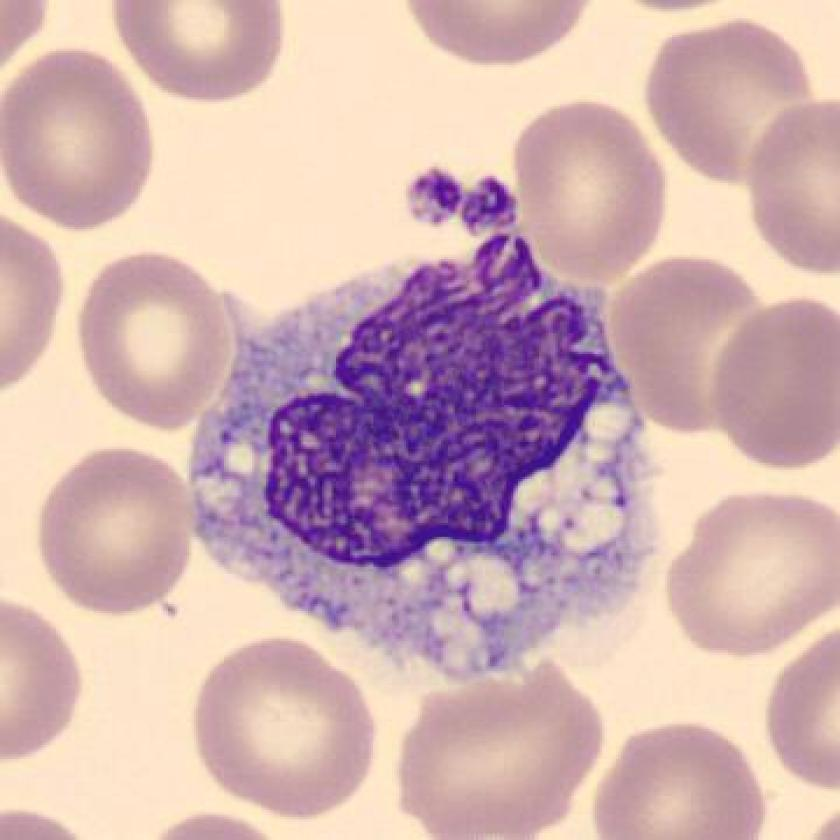monocyte: (174, 223, 682, 695)
